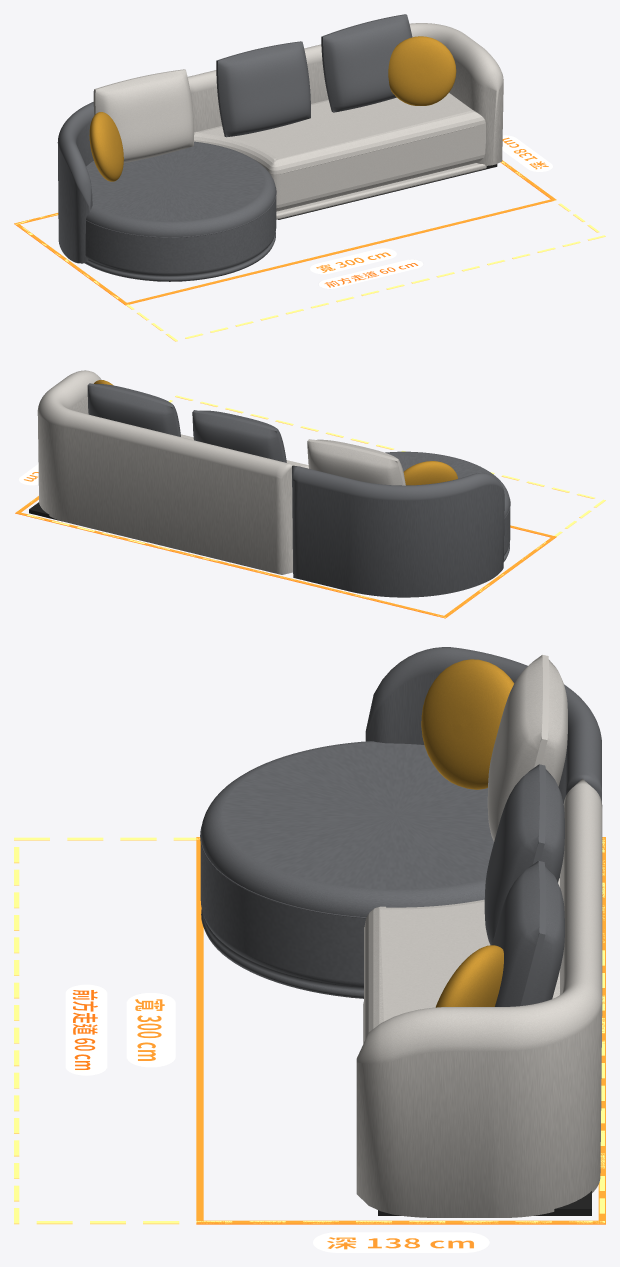
The model's file is ownRoundChaise-f.glb.
3 views of the same model, one above another, from view 1: azimuth 30°, elevation 25°; view 2: azimuth 150°, elevation 25°; view 3: azimuth 270°, elevation 25° (orthographic). The views are drawn at different scales.
Parts seen in each view (by area): view 1: object 7, object 3, object 5, object 19, object 21, ar-frame, object 20, object 10, object 22, object 2, object 23; view 2: object 5, object 10, object 21, object 19, object 20, ar-frame, object 7, object 23; view 3: object 5, object 7, ar-frame, object 3, object 10, object 23, object 21, object 20, object 19, object 22.
Boxes of the visible parts, <box> form: object 7: <box>85,141,276,281</box>; object 3: <box>194,93,485,211</box>; object 5: <box>187,23,503,165</box>; object 19: <box>216,41,310,137</box>; object 21: <box>93,69,193,162</box>; ar-frame: <box>14,135,605,341</box>; object 20: <box>321,14,412,112</box>; object 10: <box>57,102,94,263</box>; object 22: <box>388,36,456,105</box>; object 2: <box>276,163,486,219</box>; object 23: <box>89,112,123,181</box>; object 5: <box>37,370,292,574</box>; object 10: <box>292,465,504,597</box>; object 21: <box>307,439,405,485</box>; object 19: <box>192,410,286,462</box>; object 20: <box>87,383,180,436</box>; ar-frame: <box>15,395,605,618</box>; object 7: <box>385,451,510,561</box>; object 23: <box>403,461,457,485</box>; object 5: <box>356,779,602,1217</box>; object 7: <box>200,741,493,998</box>; ar-frame: <box>14,837,605,1252</box>; object 3: <box>364,878,559,1040</box>; object 10: <box>365,647,601,803</box>; object 23: <box>421,659,514,789</box>; object 21: <box>487,654,567,841</box>; object 20: <box>492,861,564,1006</box>; object 19: <box>484,764,564,945</box>; object 22: <box>435,945,503,1007</box>.
Bounding box in the file's own units: 3.22 × 0.8788 × 1.94.
11 materials, 8 textured.
